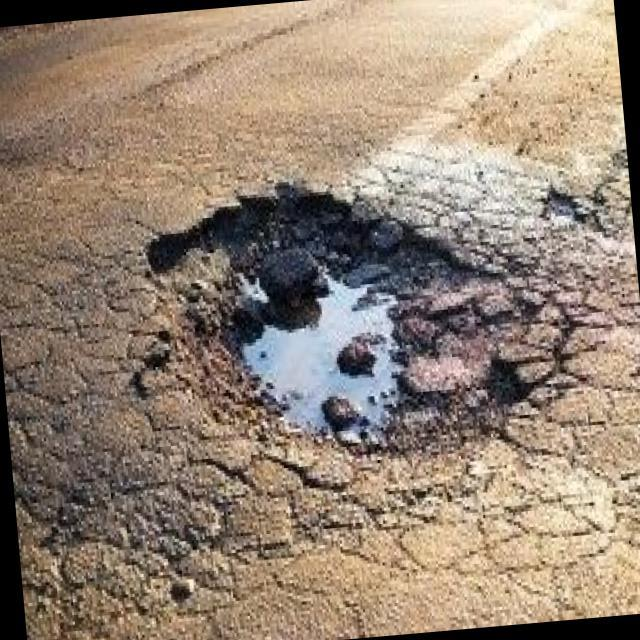Pothole: (149, 158, 524, 484)
